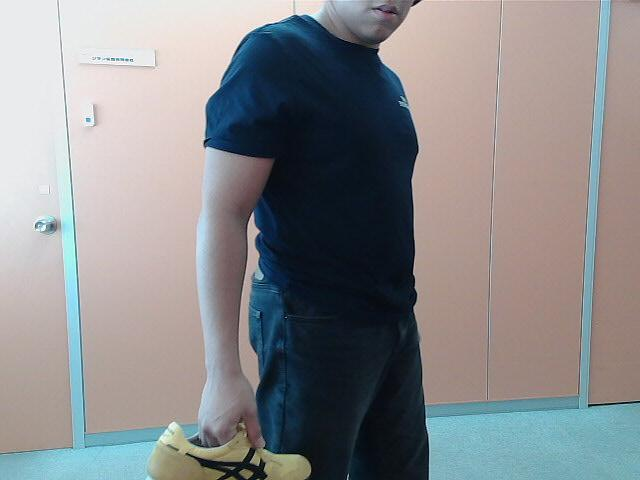Shoes: (142, 405, 314, 480)
